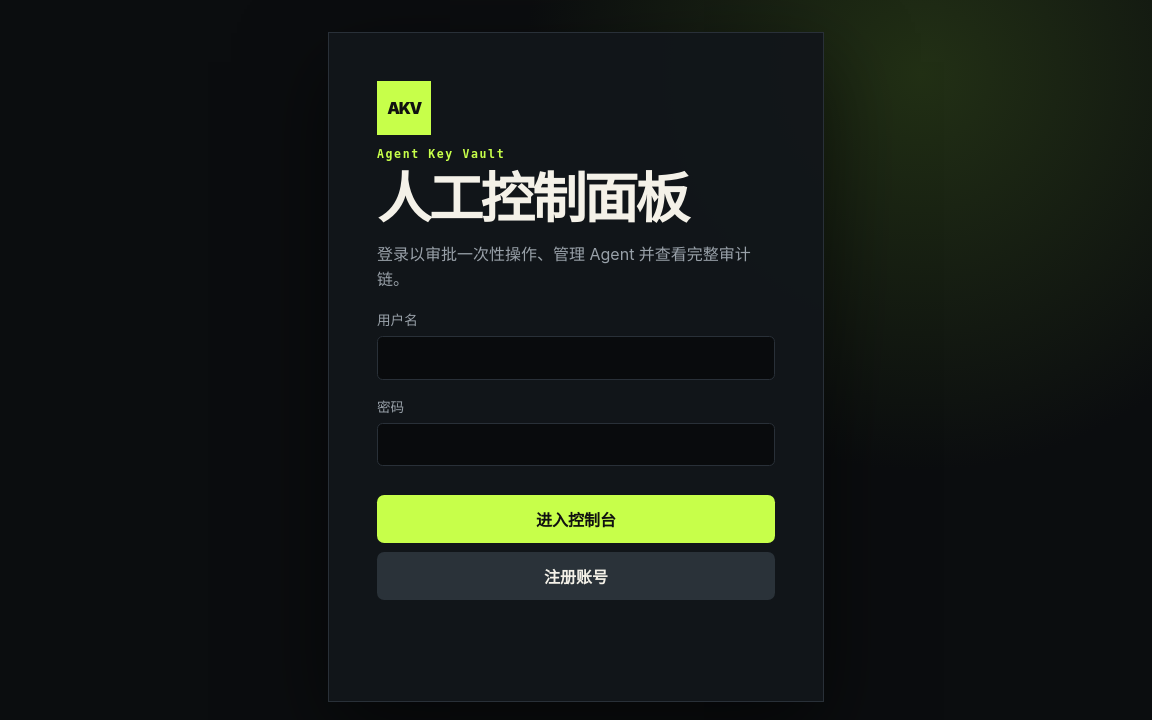
it: authentication view transition › registers a basic user and enters the workspace immediately
Click the button with class "auth-switch" at (576, 576), box [377, 552, 775, 600]
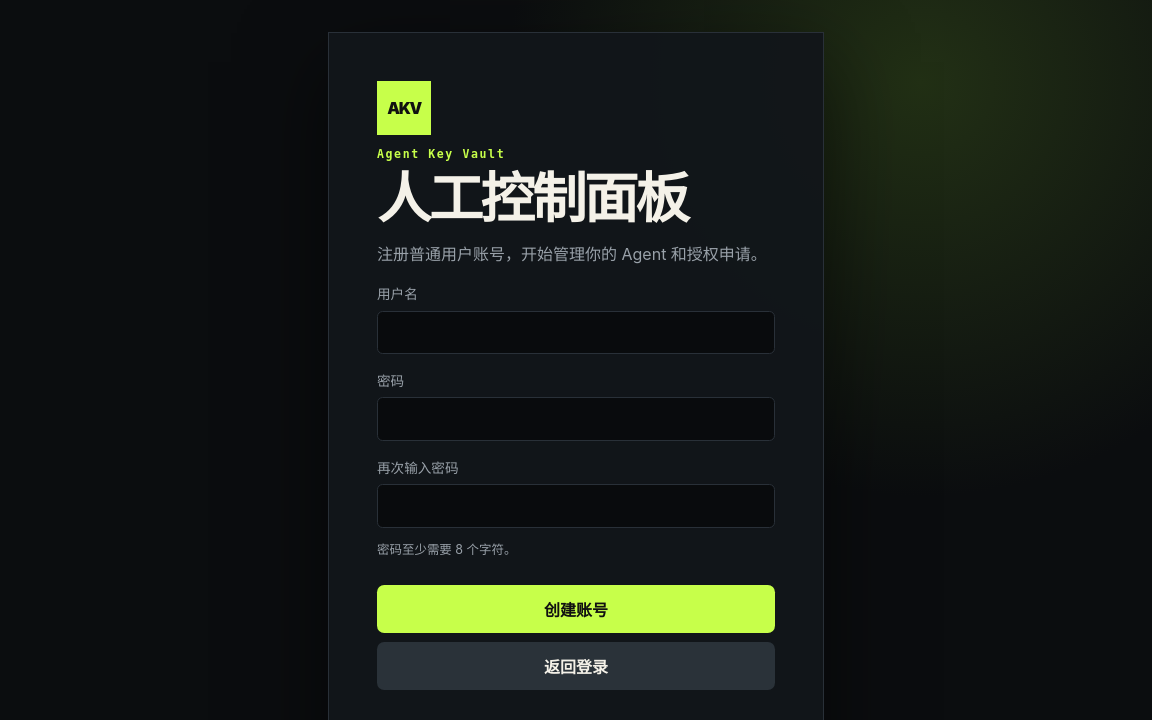
Type "new-user" into the field named "username" at (576, 332), box [377, 310, 775, 354]
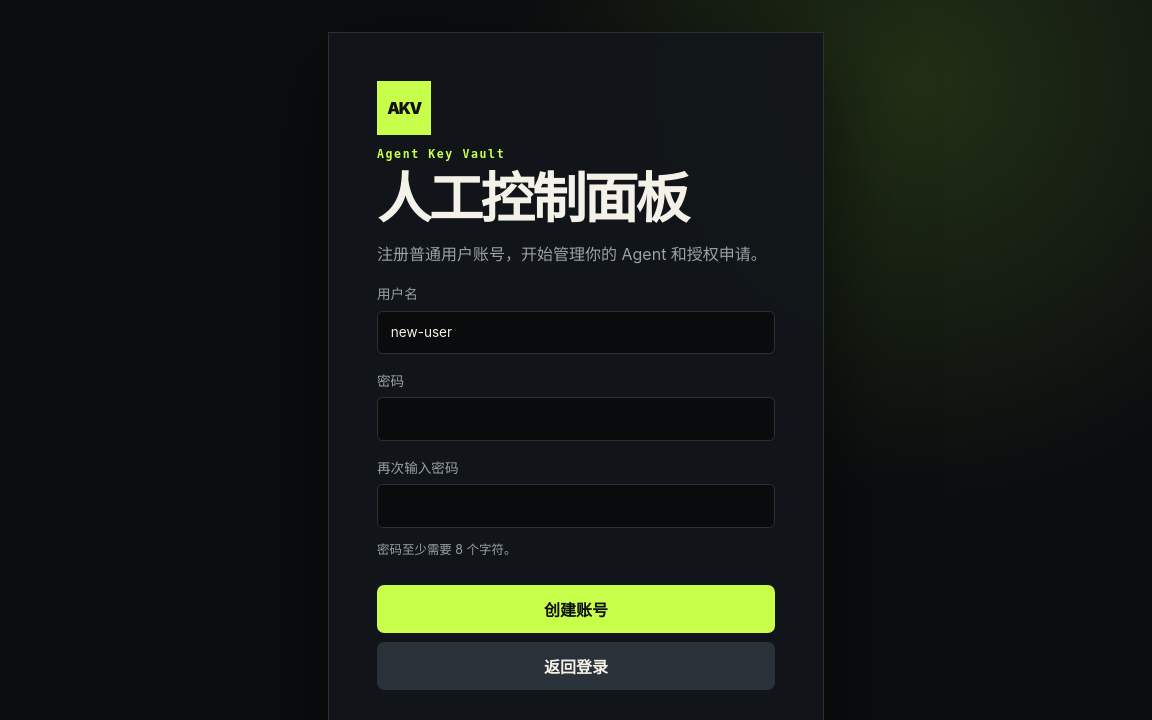
Type "safe-password" into the password field named "password" at (576, 419), box [377, 397, 775, 441]
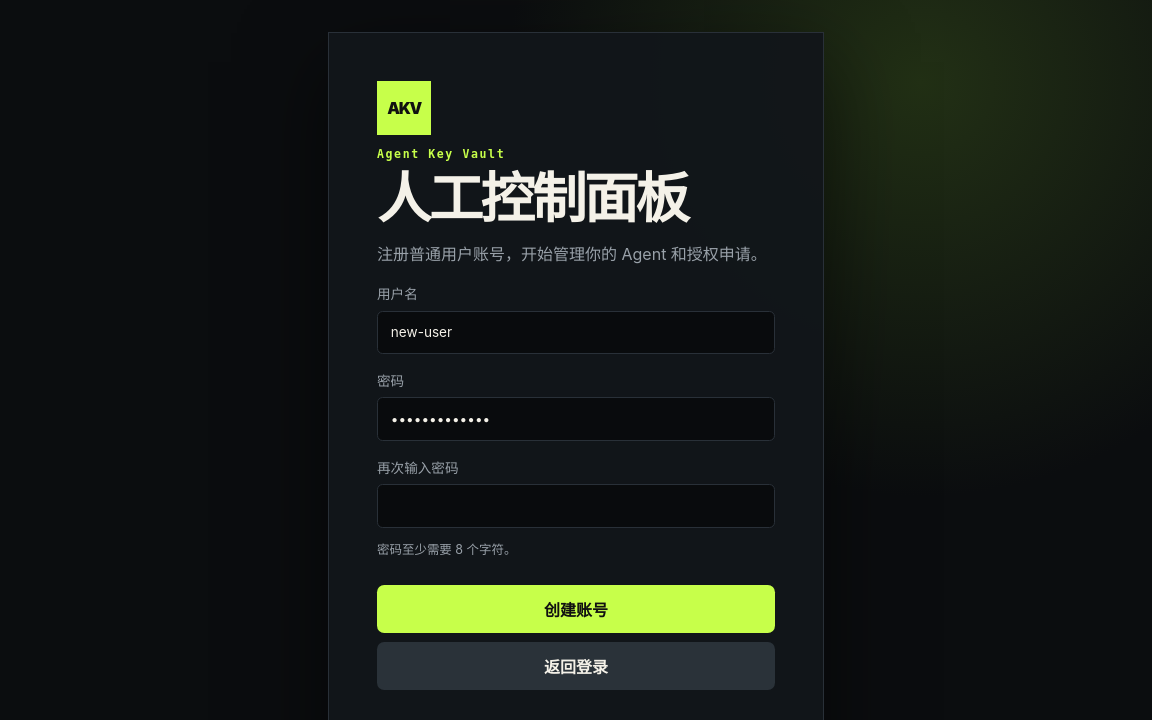
Type "safe-password" into the password field named "password_confirmation" at (576, 506), box [377, 484, 775, 528]
(page scrolled)
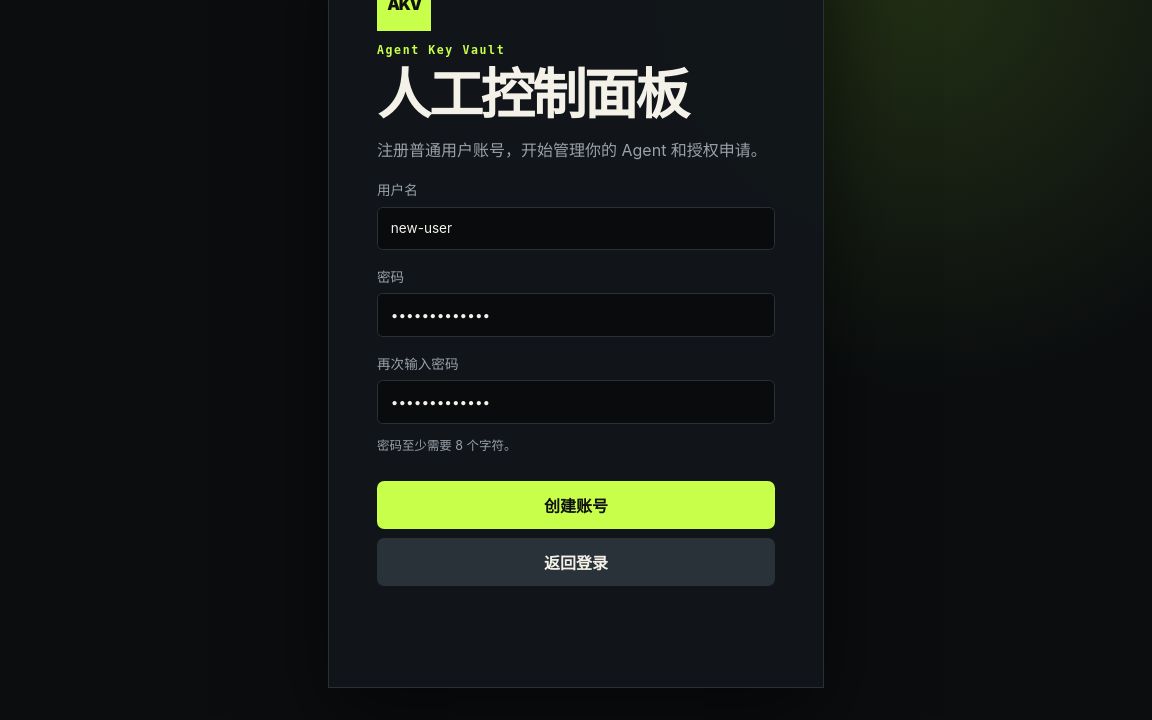
Submit the form, box [377, 179, 775, 623]
(page scrolled)
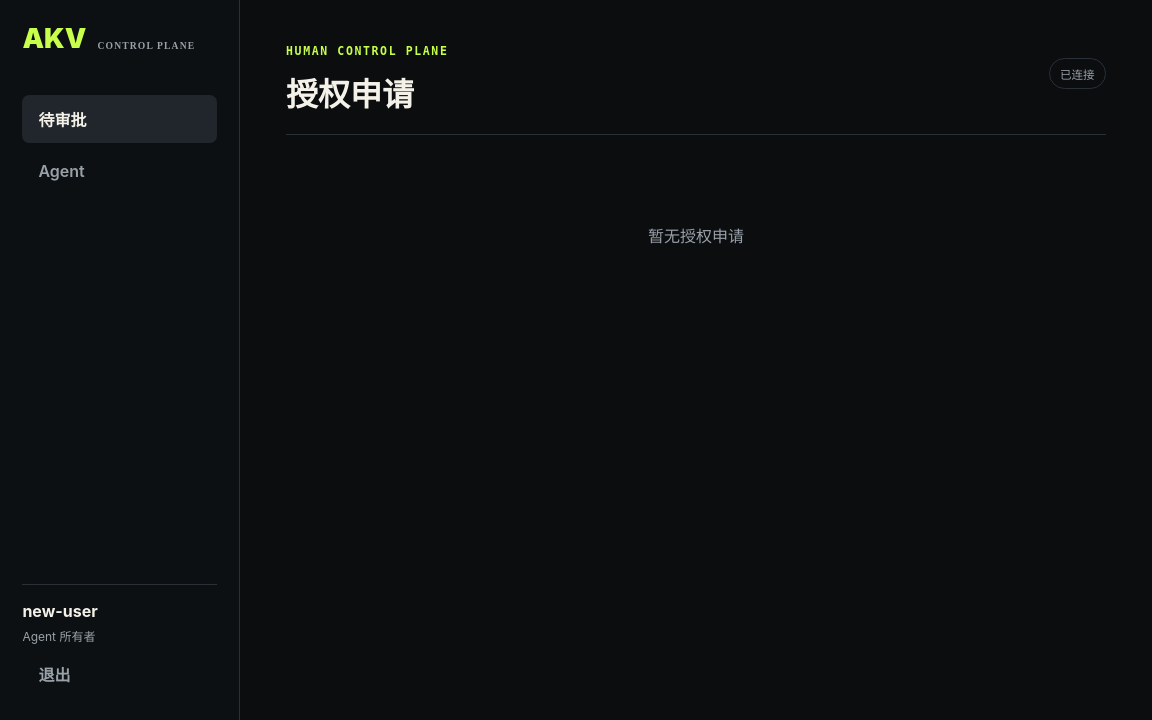
Now the element with class "app-shell" is shown
Now the element with class "app-shell" shows "Agent 所有者", box [22, 629, 95, 644]
Now the element with class "app-shell" shows "暂无授权申请", box [648, 226, 744, 246]
